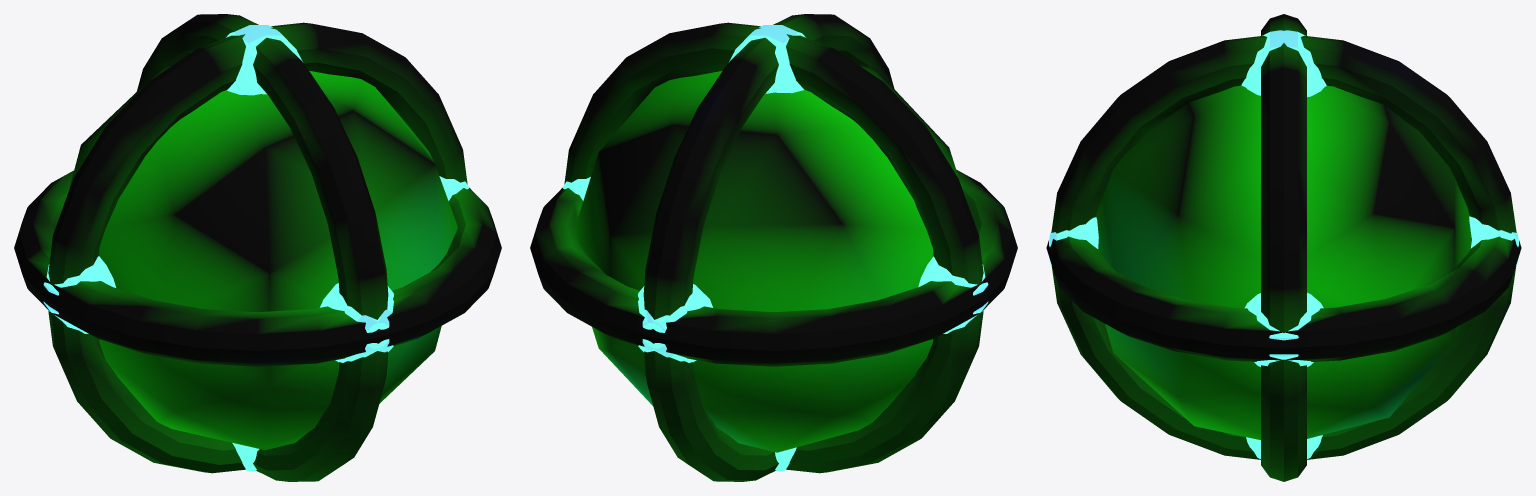
File: hero_bumper_orb.glb
3 renders of one model, left to right at view 1: azimuth 30°, elevation 25°; view 2: azimuth 150°, elevation 25°; view 3: azimuth 270°, elevation 25°, orthographic. The views are drawn at different scales.
Visible parts, largest first — view 1: HeroBumperOrb; view 2: HeroBumperOrb; view 3: HeroBumperOrb.
Part boxes in pixels (x1,y1,x2,y2): HeroBumperOrb: (14,14,501,481); HeroBumperOrb: (530,14,1017,481); HeroBumperOrb: (1046,14,1521,481).
Bounding box in the file's own units: 0.71 × 0.706 × 0.71.
